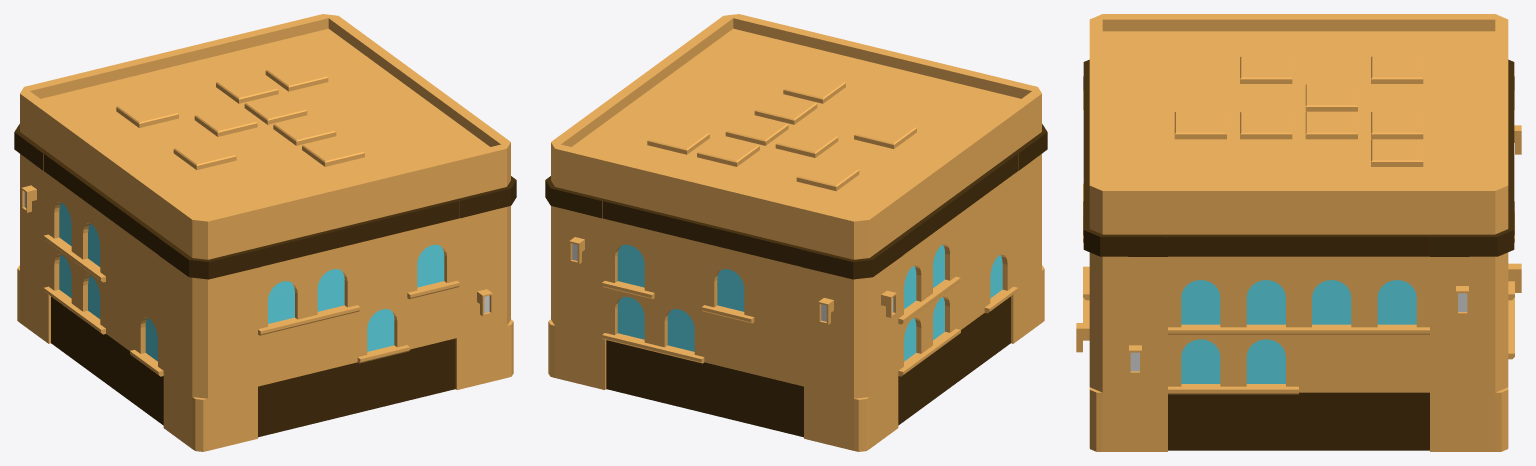
File: house.003.fbx
3 views of the same model, side by side, from view 1: azimuth 30°, elevation 25°; view 2: azimuth 150°, elevation 25°; view 3: azimuth 270°, elevation 25° (orthographic). The views are drawn at different scales.
Visible parts, largest first — view 1: House; view 2: House; view 3: House.
Boxes of the visible parts, x1,y1,x2,y2 form: House: (14,14,516,451); House: (545,14,1047,451); House: (1076,14,1521,451).
Bounding box in the file's own units: 680 × 440 × 680.
